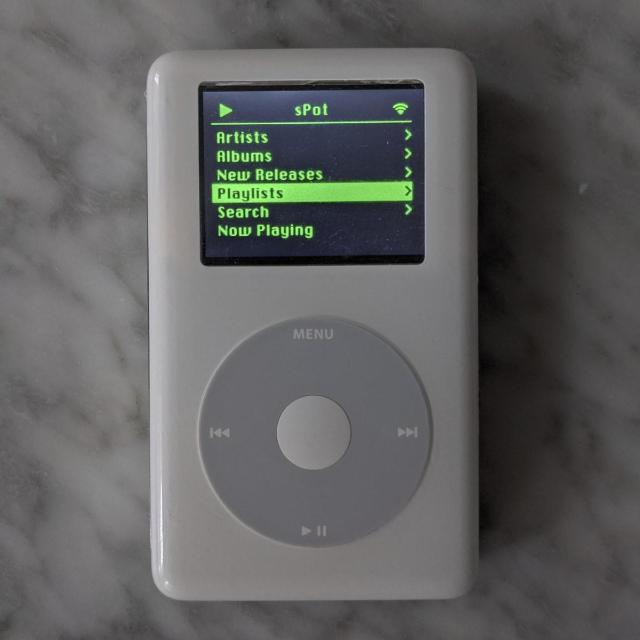Music-Player: (137, 38, 501, 606)
